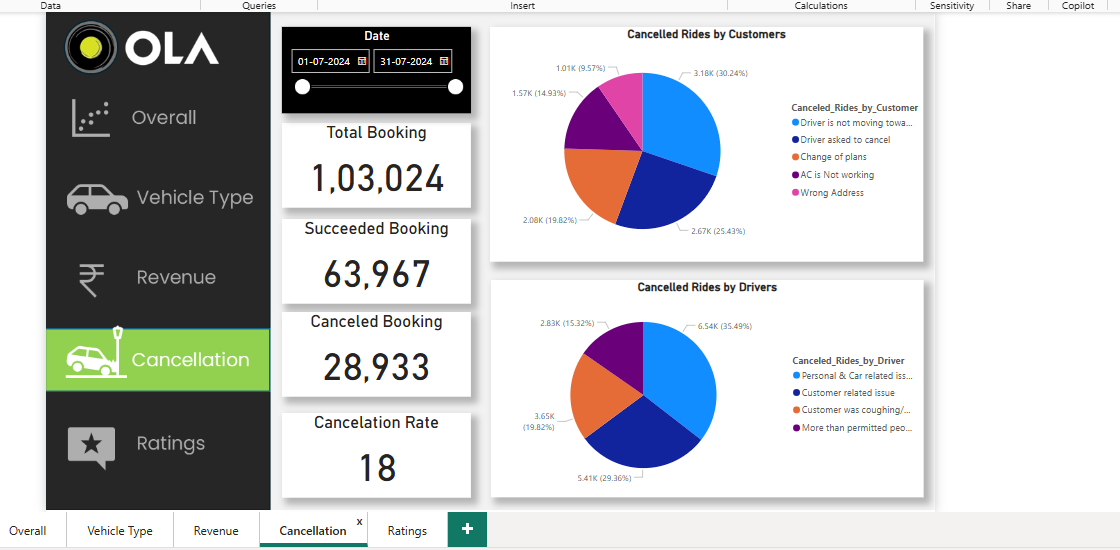

The dashboard page shown, as its layout file describes it:
{"tool":"powerbi","page":{"name":"Cancellation","canvas":[1280,720],"ordinal":3},"visuals":[{"type":"actionButton","box":[0,220.3,324,92.2],"z":0},{"type":"actionButton","box":[0,339.8,324,92.2],"z":1000},{"type":"actionButton","box":[0,578.9,324,92.2],"z":2000},{"type":"actionButton","box":[0,113.3,323.3,91.7],"z":3000},{"type":"pieChart","title":"Cancelled Rides by Customers","fields":{"Y":["CountNonNull(July.Canceled_Rides_by_Customer)"],"Category":["July.Canceled_Rides_by_Customer"]},"box":[640,22,624,338],"z":4000},{"type":"pieChart","title":"Cancelled Rides by Drivers","fields":{"Category":["July.Canceled_Rides_by_Driver"],"Y":["CountNonNull(July.Canceled_Rides_by_Driver)"]},"box":[640.9,386.3,623.3,312.5],"z":5000},{"type":"card","title":"Total Booking","fields":{"Values":["CountNonNull(July.Booking_Value)"]},"box":[340,160,272,122],"z":6000},{"type":"card","title":"Succeeded Booking","fields":{"Values":["CountNonNull(July.Booking_ID)"]},"box":[340,298,272,122],"z":7000},{"type":"slicer","title":"Date","fields":{"Values":["July.Date"]},"box":[340,22,272,124],"z":8000},{"type":"card","title":"Canceled Booking","fields":{"Values":["CountNonNull(July.Booking_ID)"]},"box":[340,432,272,122],"z":9000},{"type":"card","title":"Cancelation Rate","fields":{"Values":["July.CanceledPercentage"]},"box":[340,578,272,122],"z":10000}]}

Visuals, with their boxes on the page's 1280x720 design canvas (x1, y1, x2, y2). These are canvas units, not pixel positions in the 1120x550 screenshot, which may show the page scaled, cropped or inside an application window:
actionButton: l=0, t=220, r=324, b=312
actionButton: l=0, t=340, r=324, b=432
actionButton: l=0, t=579, r=324, b=671
actionButton: l=0, t=113, r=323, b=205
"Cancelled Rides by Customers" pieChart: l=640, t=22, r=1264, b=360
"Cancelled Rides by Drivers" pieChart: l=641, t=386, r=1264, b=699
"Total Booking" card: l=340, t=160, r=612, b=282
"Succeeded Booking" card: l=340, t=298, r=612, b=420
"Date" slicer: l=340, t=22, r=612, b=146
"Canceled Booking" card: l=340, t=432, r=612, b=554
"Cancelation Rate" card: l=340, t=578, r=612, b=700
